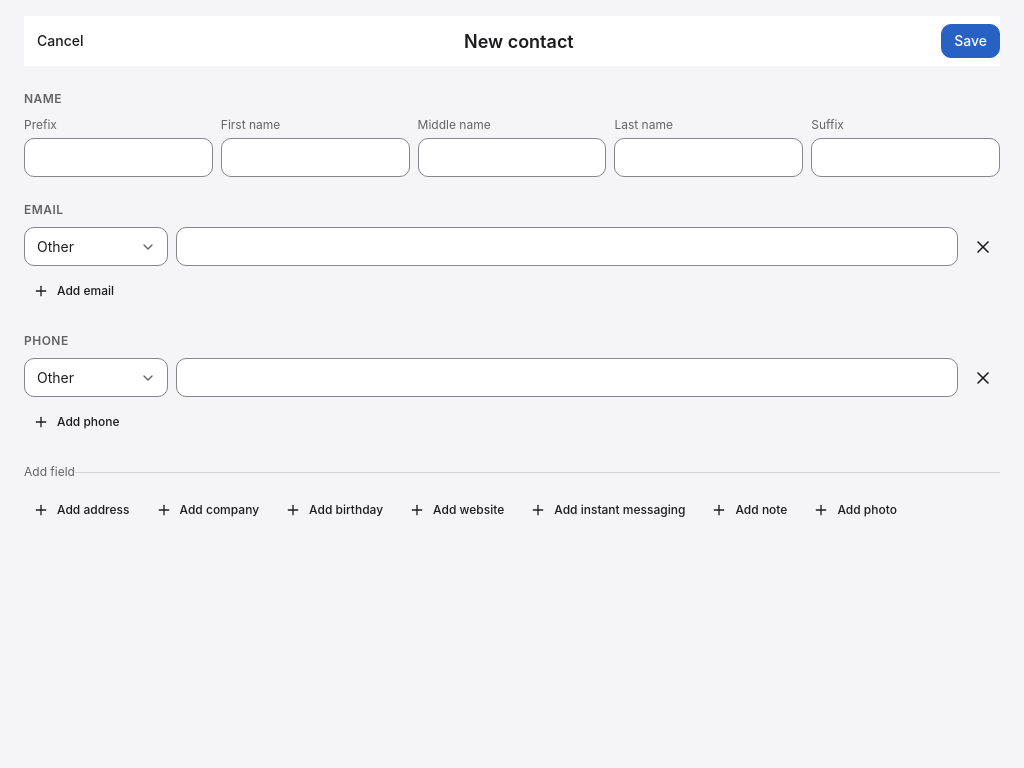
ContactForm photo (JMAP gap analysis, B-1) › offers an ENABLED picker with no props beyond the form itself
What coordinates should you click on to do the following:
click the button "Add photo"
I would click on:
 (855, 510)
Its box is [804,493,906,527].
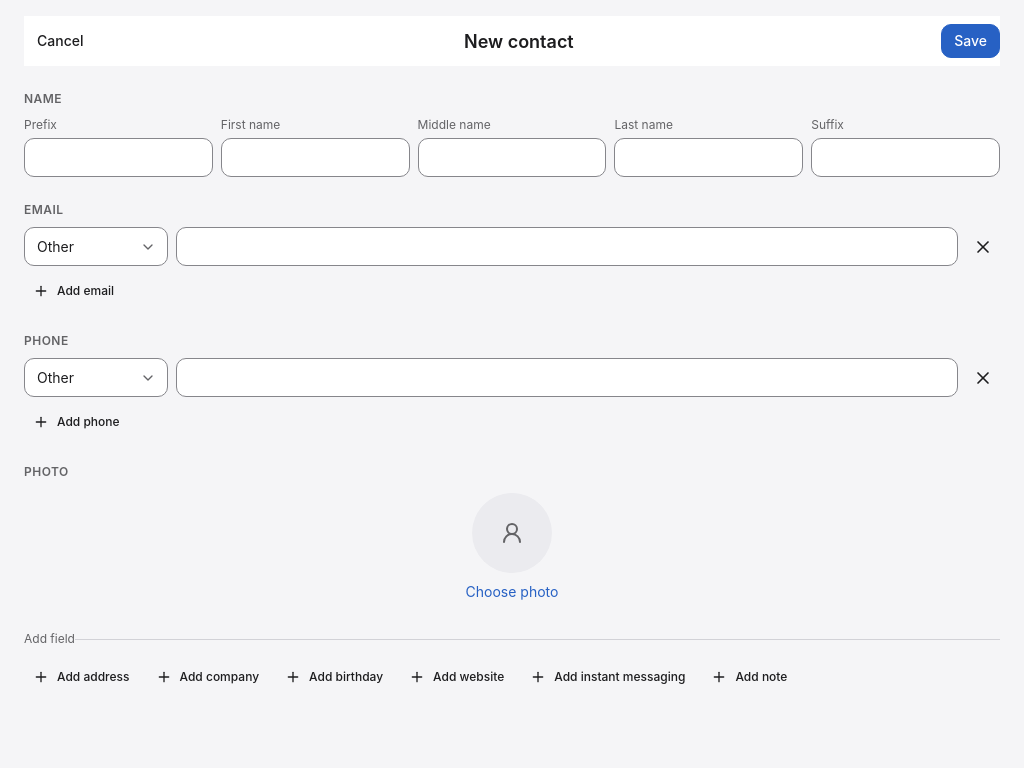
Result: the file field labelled "Choose photo" is enabled at [462,489,562,606]
